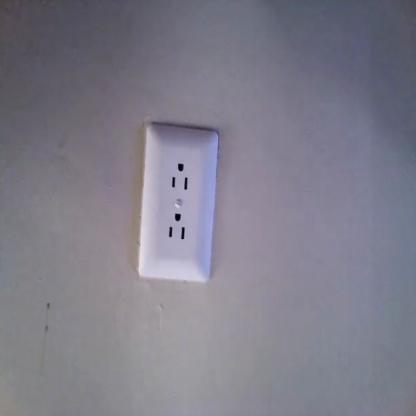OUTLET: (138, 129, 218, 279)
